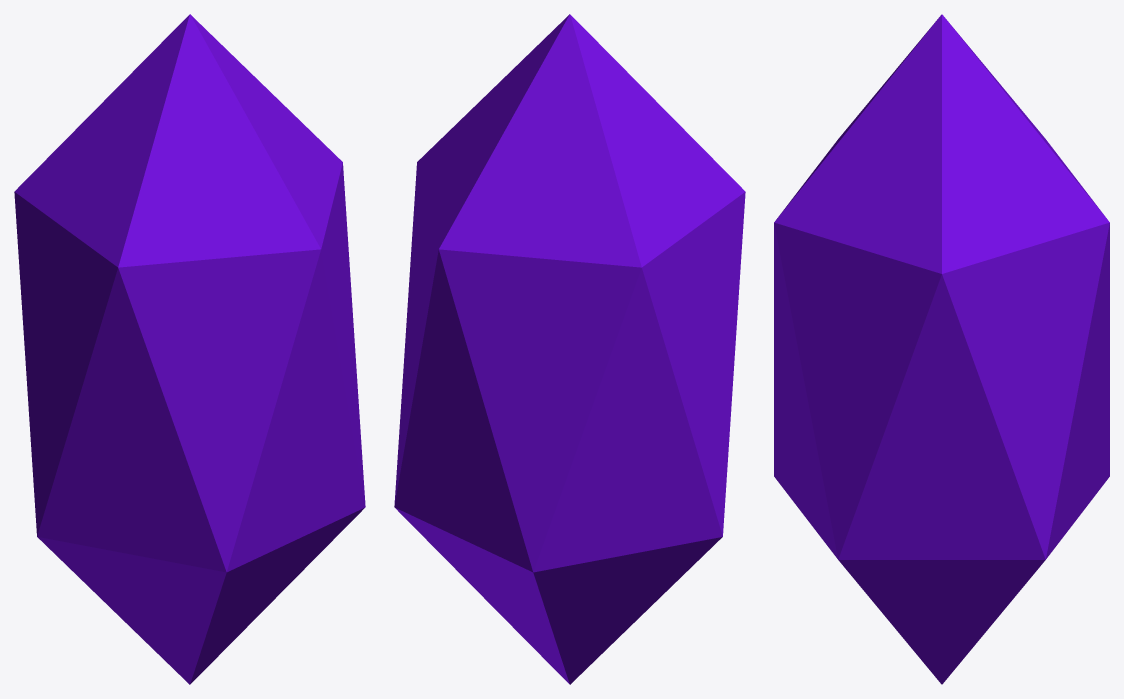
Rendered from Arena_Crystal.obj.
3 views of the same model, side by side, from view 1: azimuth 30°, elevation 25°; view 2: azimuth 150°, elevation 25°; view 3: azimuth 270°, elevation 25° (orthographic).
Parts seen in each view (by area): view 1: Central_Crystal; view 2: Central_Crystal; view 3: Central_Crystal.
Part boxes in pixels (<box>): Central_Crystal: <box>14,14,365,684</box>; Central_Crystal: <box>394,14,745,684</box>; Central_Crystal: <box>774,14,1109,684</box>.
Bounding box in the file's own units: 1.43 × 3 × 1.36.
